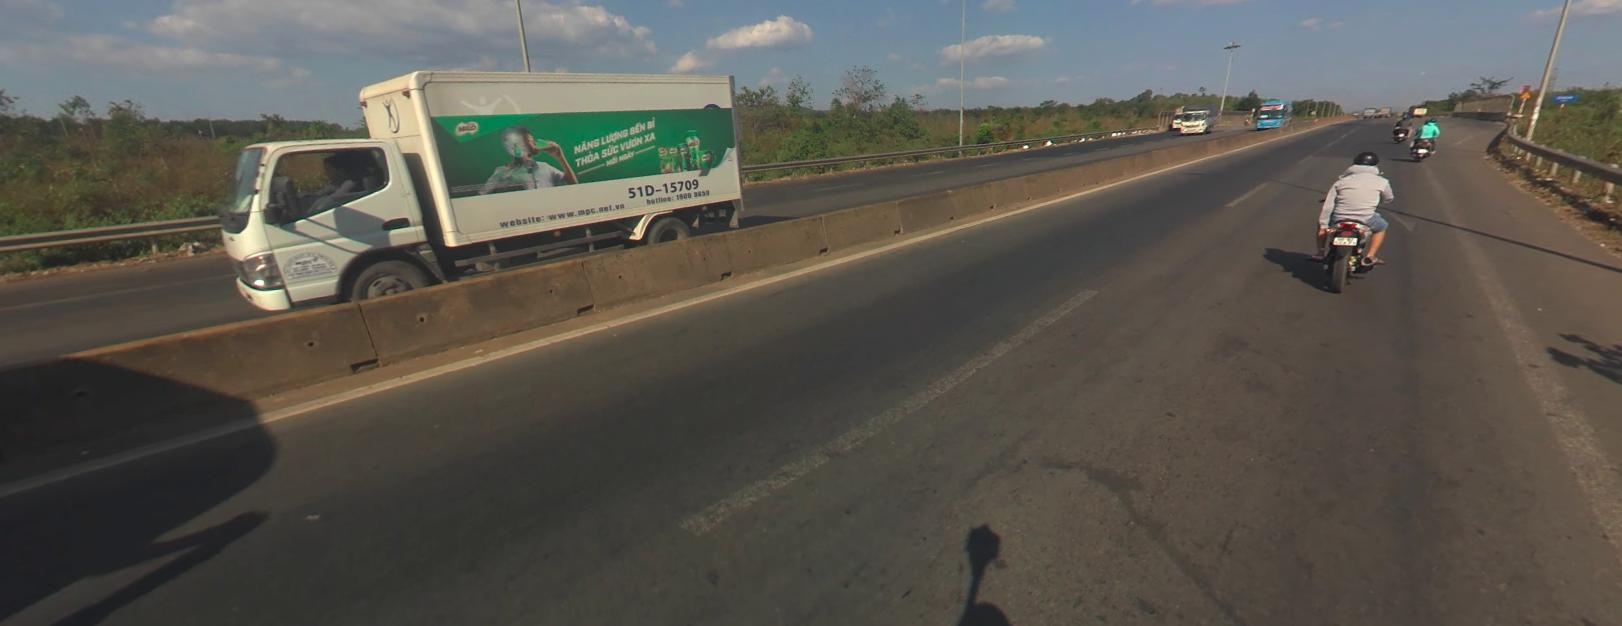Nguy hiem: (1519, 89, 1532, 97)
